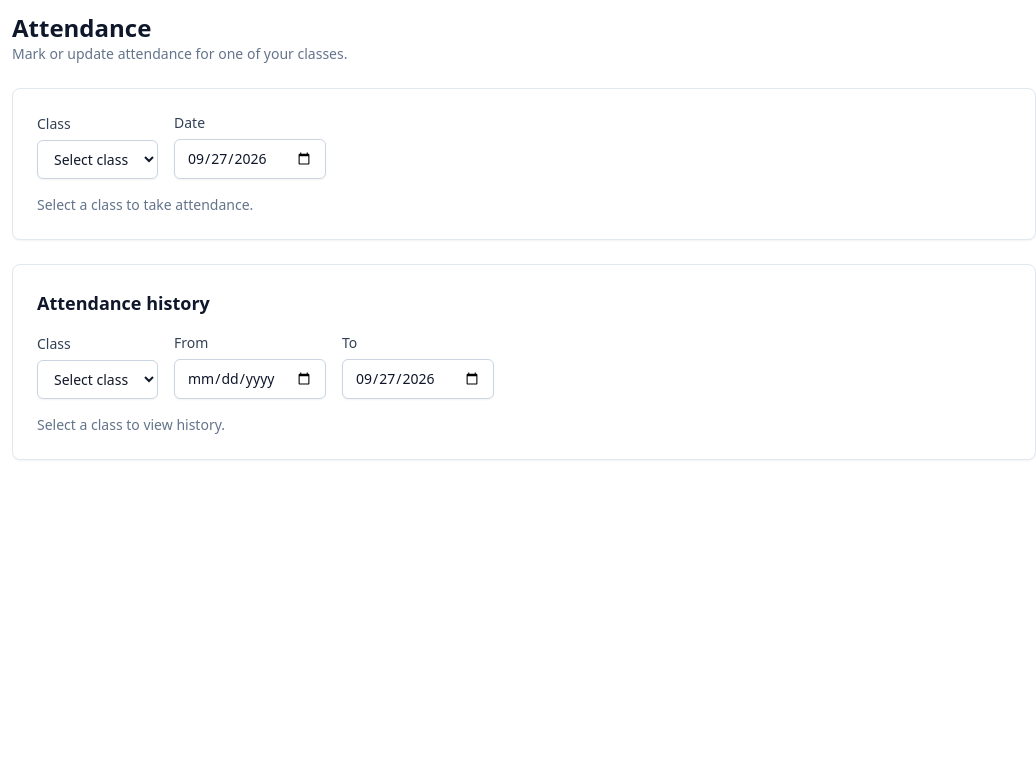
Test: TeacherAttendancePage › loads the roster for the selected class, defaulting each student to Present
The width and height of the screenshot is (1036, 780).
Select "Grade 8 - A" in the 1st dropdown labelled "Class" at [98, 160], box 37,140 -> 158,179
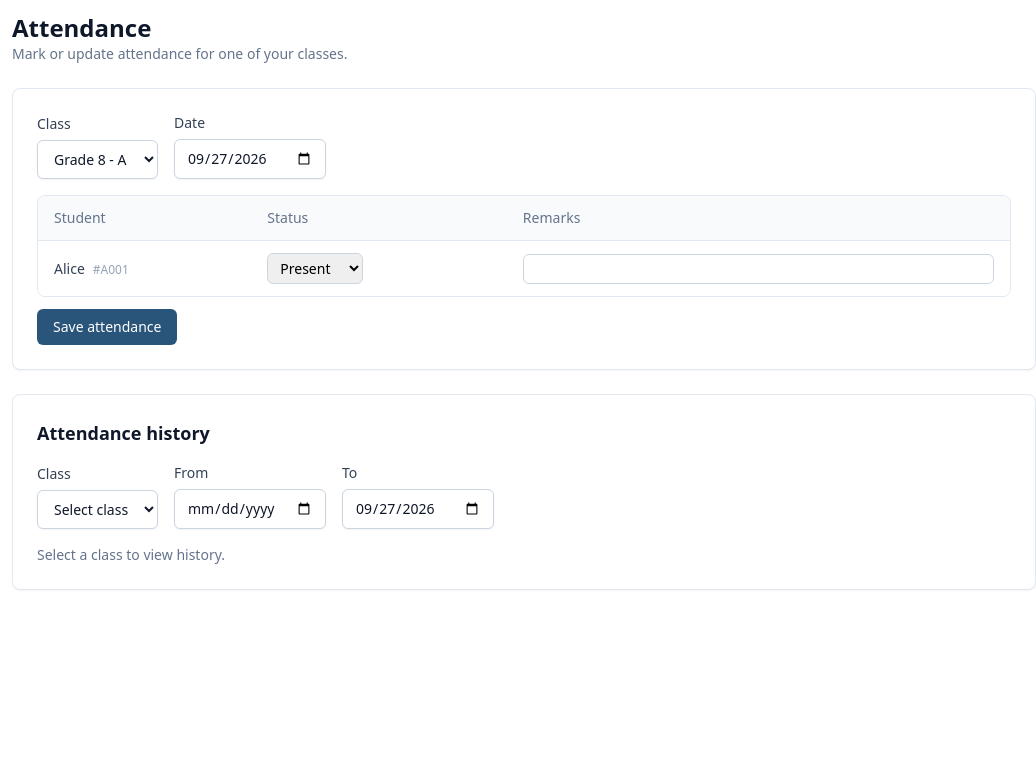
Now the text "Alice" is shown, box 54,258 -> 85,278
Now the dropdown showing "Present" is shown, box 267,253 -> 363,284
